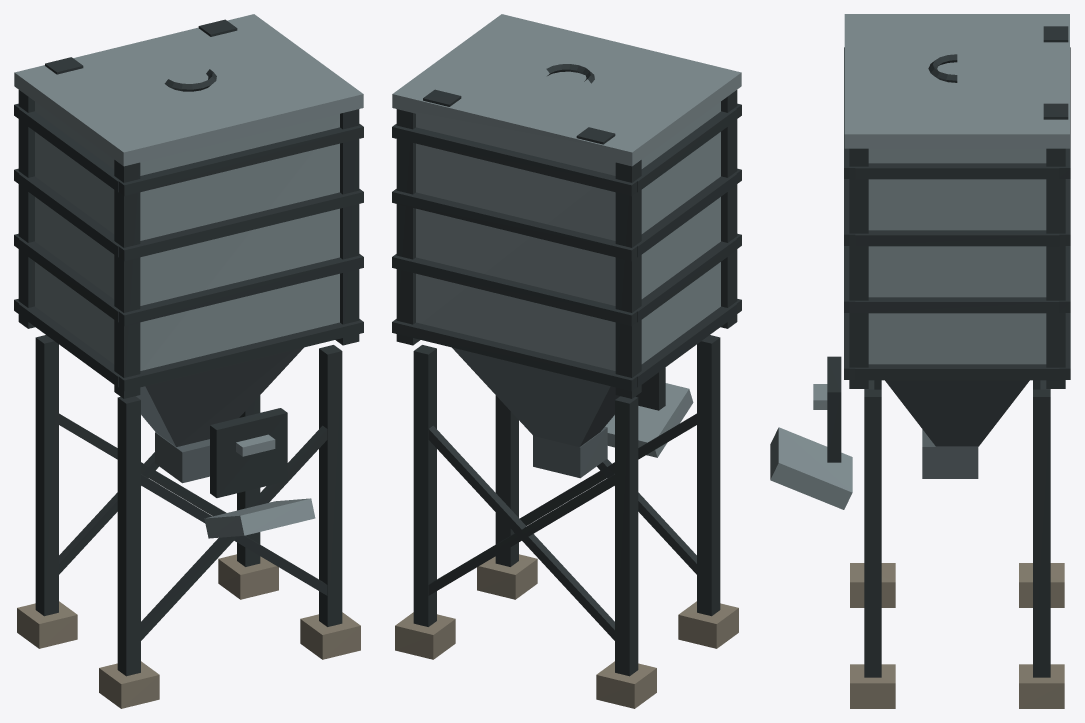
Rendered from feed-bin.source.glb.
3 renders of one model, left to right at view 1: azimuth 30°, elevation 25°; view 2: azimuth 150°, elevation 25°; view 3: azimuth 270°, elevation 25°, orthographic. The views are drawn at different scales.
Visible parts, largest first — view 1: feed-bin-rectangular-shell-mesh, feed-bin-fill-lid-panel-mesh, feed-bin-hopper-body-mesh, feed-bin-front-left-leg-mesh, feed-bin-rear-left-leg-mesh, feed-bin-front-right-leg-mesh, feed-bin-gate-plate-mesh, feed-bin-front-left-corner-mesh, feed-bin-front-band-3.36-mesh, feed-bin-front-band-2.1-mesh, feed-bin-front-band-2.52-mesh, feed-bin-front-band-2.94-mesh (+18 smaller); view 2: feed-bin-rectangular-shell-mesh, feed-bin-fill-lid-panel-mesh, feed-bin-hopper-body-mesh, feed-bin-rear-left-leg-mesh, feed-bin-front-left-leg-mesh, feed-bin-rear-right-leg-mesh, feed-bin-rear-left-corner-mesh, feed-bin-rear-band-3.36-mesh, feed-bin-rear-band-2.1-mesh, feed-bin-rear-band-2.52-mesh, feed-bin-rear-band-2.94-mesh, feed-bin-brace-a--0.5-mesh (+17 smaller); view 3: feed-bin-rectangular-shell-mesh, feed-bin-fill-lid-panel-mesh, feed-bin-hopper-body-mesh, feed-bin-front-right-leg-mesh, feed-bin-rear-right-leg-mesh, feed-bin-feed-chute-mesh, feed-bin-front-right-corner-mesh, feed-bin-rear-right-corner-mesh, feed-bin-right-band-2.94-mesh, feed-bin-right-band-2.1-mesh, feed-bin-right-band-2.52-mesh, feed-bin-right-band-3.36-mesh (+12 smaller).
Boxes of the visible parts, <box> form: feed-bin-rectangular-shell-mesh: <box>35,102,339,370</box>; feed-bin-fill-lid-panel-mesh: <box>14,14,363,166</box>; feed-bin-hopper-body-mesh: <box>136,347,303,446</box>; feed-bin-front-left-leg-mesh: <box>117,396,140,676</box>; feed-bin-rear-left-leg-mesh: <box>35,335,58,616</box>; feed-bin-front-right-leg-mesh: <box>319,345,342,626</box>; feed-bin-gate-plate-mesh: <box>210,408,287,497</box>; feed-bin-front-left-corner-mesh: <box>114,160,140,398</box>; feed-bin-front-band-3.36-mesh: <box>118,124,363,196</box>; feed-bin-front-band-2.1-mesh: <box>118,319,363,391</box>; feed-bin-front-band-2.52-mesh: <box>118,254,363,326</box>; feed-bin-front-band-2.94-mesh: <box>118,189,363,261</box>; feed-bin-rectangular-shell-mesh: <box>416,102,720,370</box>; feed-bin-fill-lid-panel-mesh: <box>392,14,741,166</box>; feed-bin-hopper-body-mesh: <box>452,347,619,446</box>; feed-bin-rear-left-leg-mesh: <box>615,396,638,676</box>; feed-bin-front-left-leg-mesh: <box>697,335,720,616</box>; feed-bin-rear-right-leg-mesh: <box>413,345,436,626</box>; feed-bin-rear-left-corner-mesh: <box>615,160,641,398</box>; feed-bin-rear-band-3.36-mesh: <box>392,124,637,196</box>; feed-bin-rear-band-2.1-mesh: <box>392,319,637,391</box>; feed-bin-rear-band-2.52-mesh: <box>392,254,637,326</box>; feed-bin-rear-band-2.94-mesh: <box>392,189,637,261</box>; feed-bin-brace-a--0.5-mesh: <box>428,425,614,640</box>; feed-bin-rectangular-shell-mesh: <box>868,148,1046,364</box>; feed-bin-fill-lid-panel-mesh: <box>844,14,1069,148</box>; feed-bin-hopper-body-mesh: <box>885,380,1029,446</box>; feed-bin-front-right-leg-mesh: <box>864,389,881,677</box>; feed-bin-rear-right-leg-mesh: <box>1033,389,1050,677</box>; feed-bin-feed-chute-mesh: <box>770,427,852,509</box>; feed-bin-front-right-corner-mesh: <box>849,148,868,388</box>; feed-bin-rear-right-corner-mesh: <box>1046,148,1065,388</box>; feed-bin-right-band-2.94-mesh: <box>855,230,1059,246</box>; feed-bin-right-band-2.1-mesh: <box>855,364,1059,380</box>; feed-bin-right-band-2.52-mesh: <box>855,297,1059,313</box>; feed-bin-right-band-3.36-mesh: <box>855,163,1059,179</box>.
Bounding box in the file's own units: 1.63 × 3.66 × 1.71.
